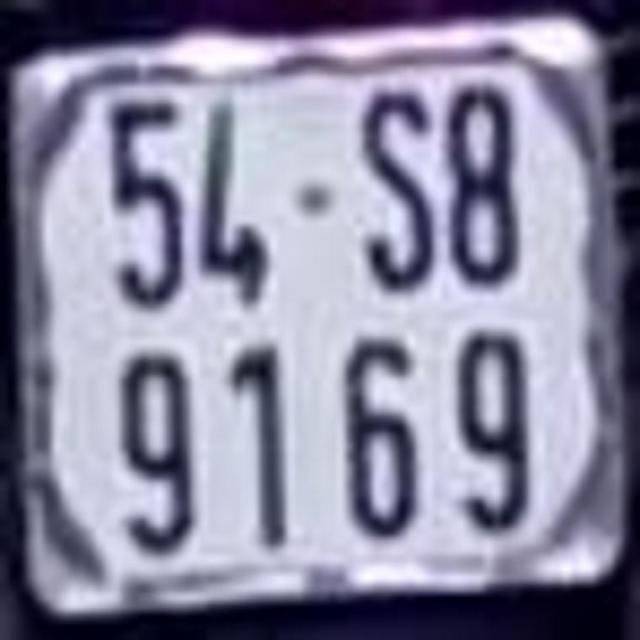1: (227, 336, 298, 546)
4: (198, 93, 274, 310)
5: (112, 102, 188, 308)
6: (344, 329, 420, 538)
8: (453, 77, 518, 286)
9: (450, 326, 537, 536), (116, 340, 200, 551)
S: (359, 85, 437, 290)
